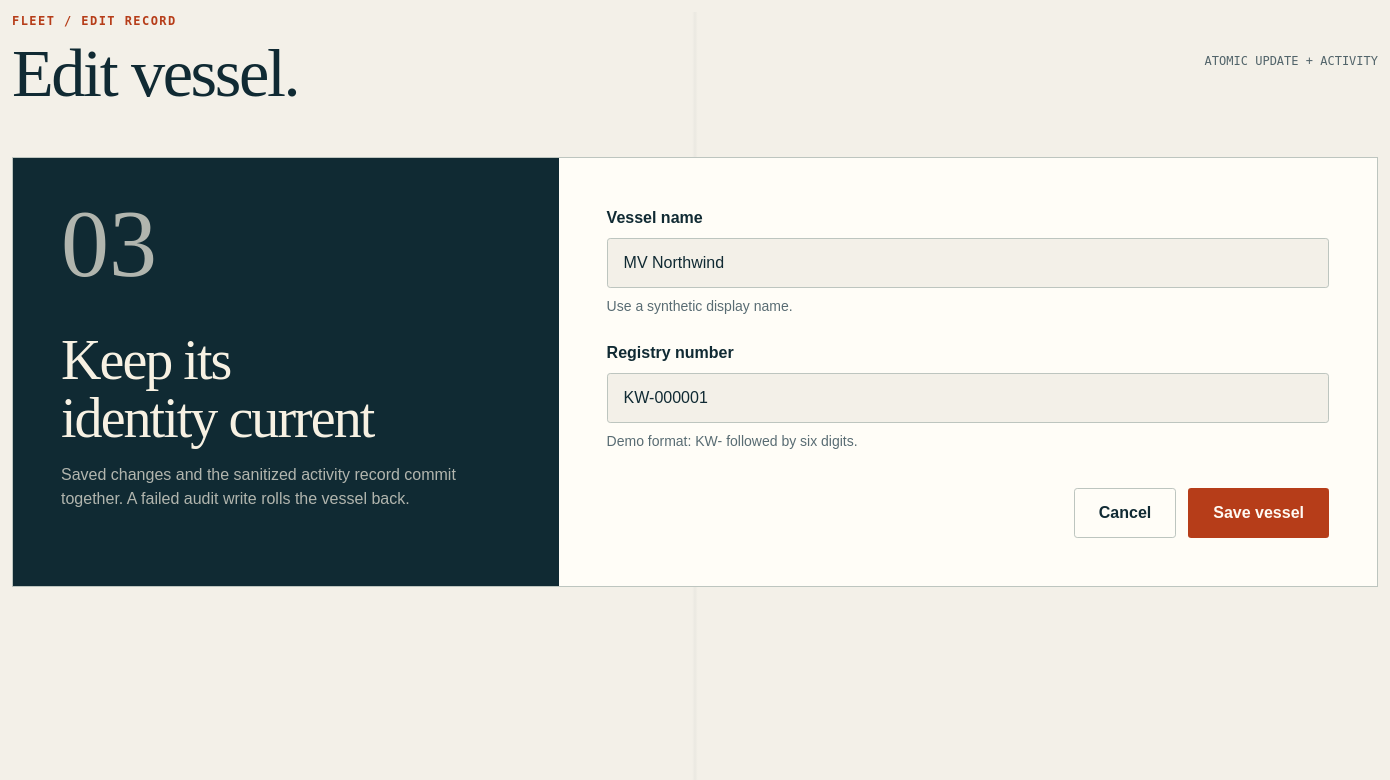
Test: VesselEditPage › preserves edited values when the registry conflicts
Type "kw-000002" into the field labelled "Registry number" at (968, 398), box [607,373,1329,423]
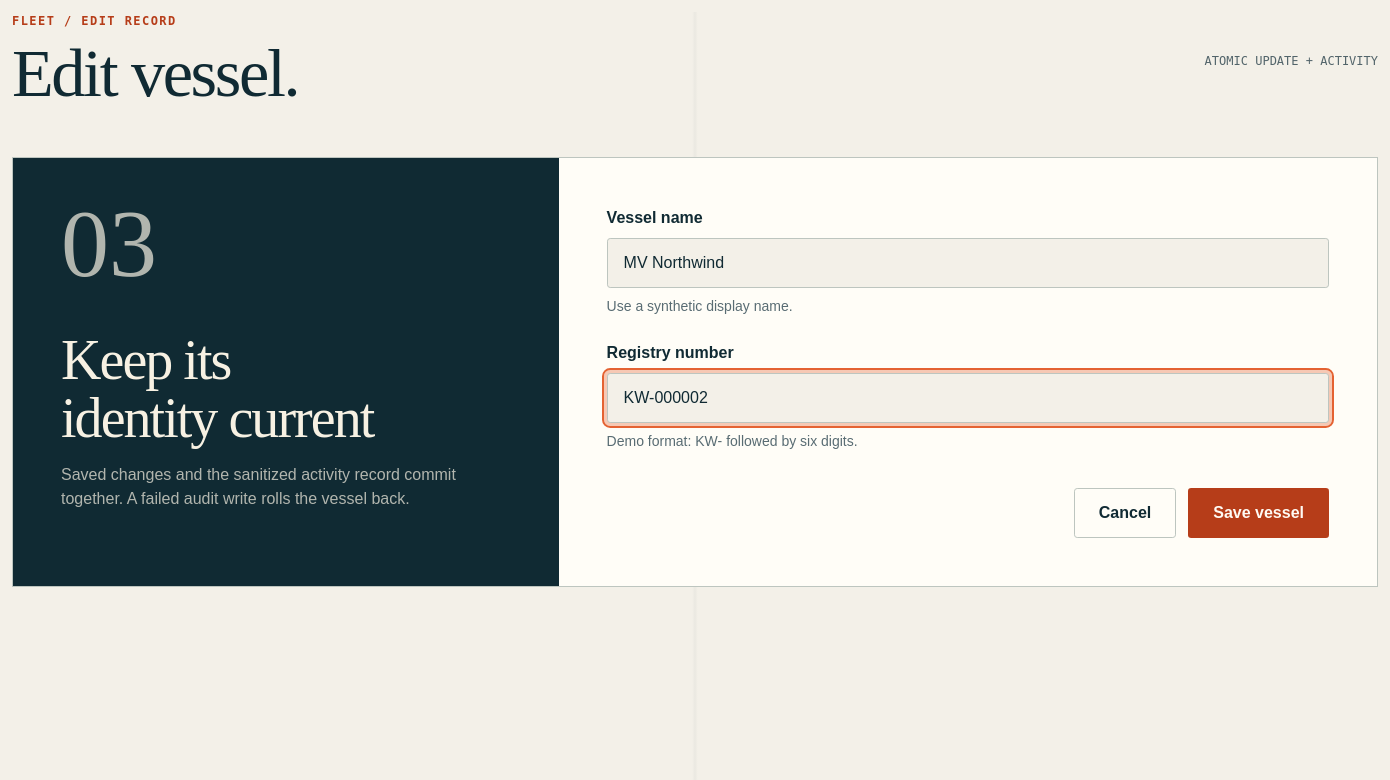
Click the button "Save vessel" at (1259, 513), box [1188,488,1329,538]
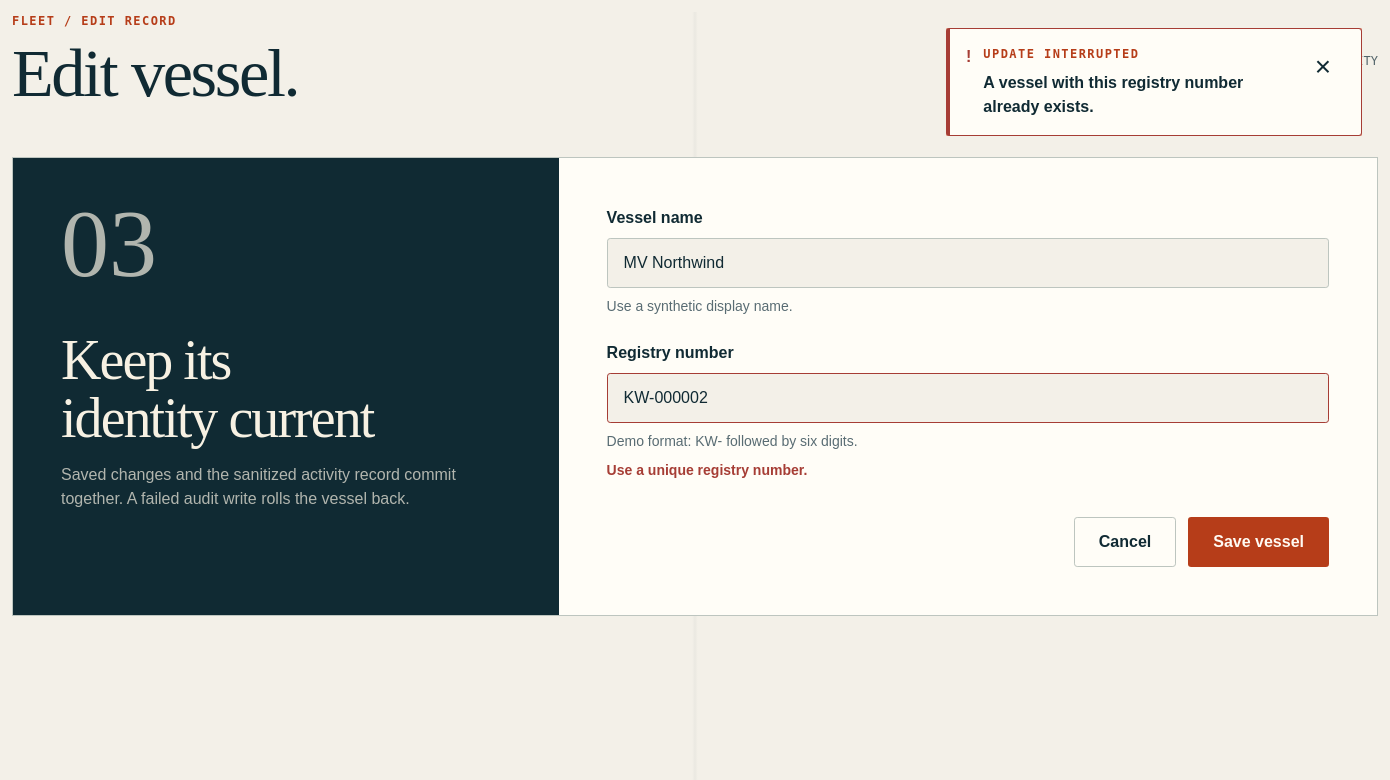
Result: the heading "A vessel with this registry number already exists." is shown at [983,71,1289,119]
